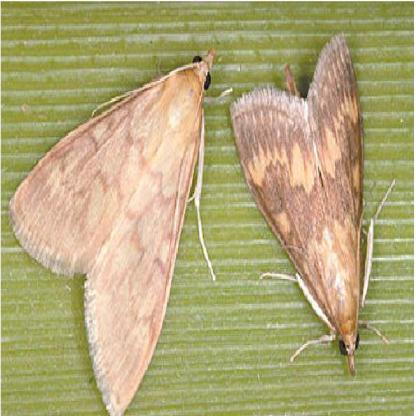stem-borer: (7, 43, 219, 416), (228, 29, 394, 381)
